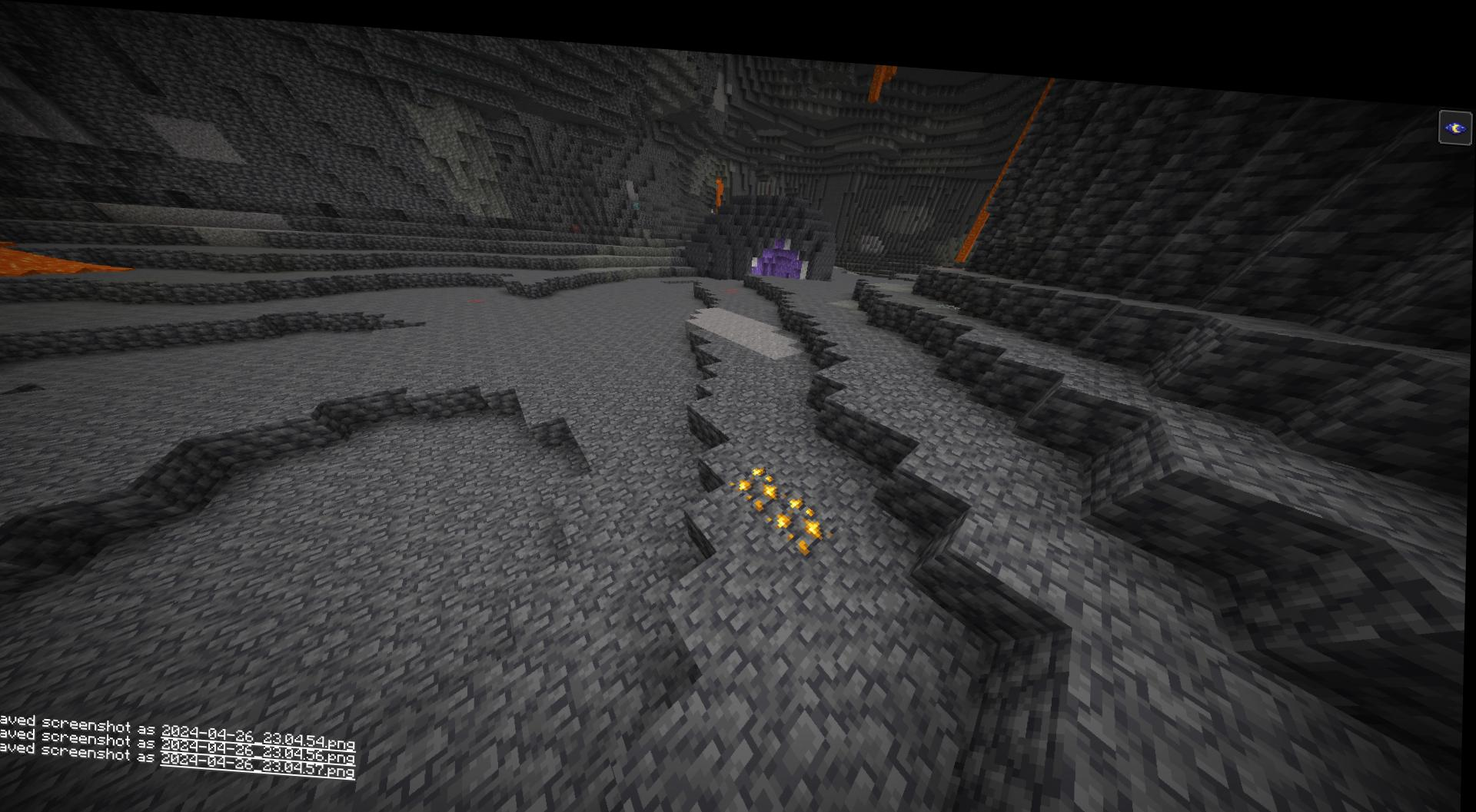gold ore: (769, 480, 842, 544), (730, 451, 796, 507)
